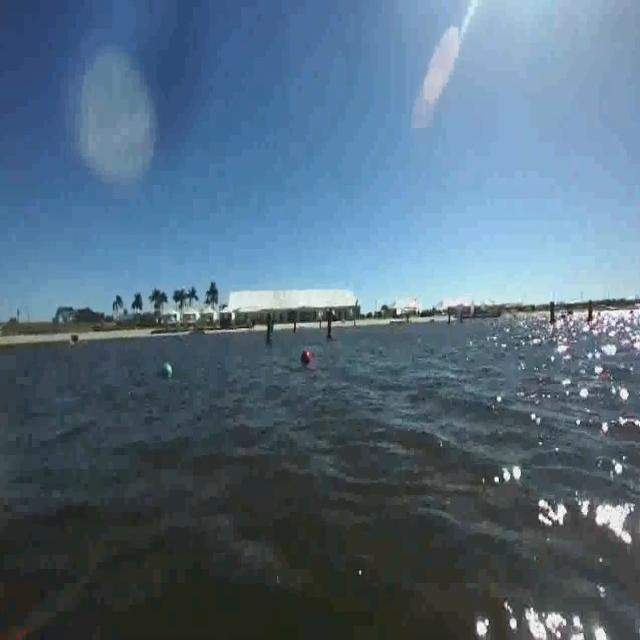green-buoy: (160, 358, 173, 382)
green-column-buoy: (265, 313, 273, 352)
red-buoy: (302, 351, 312, 366)
red-column-buoy: (325, 312, 334, 339)
